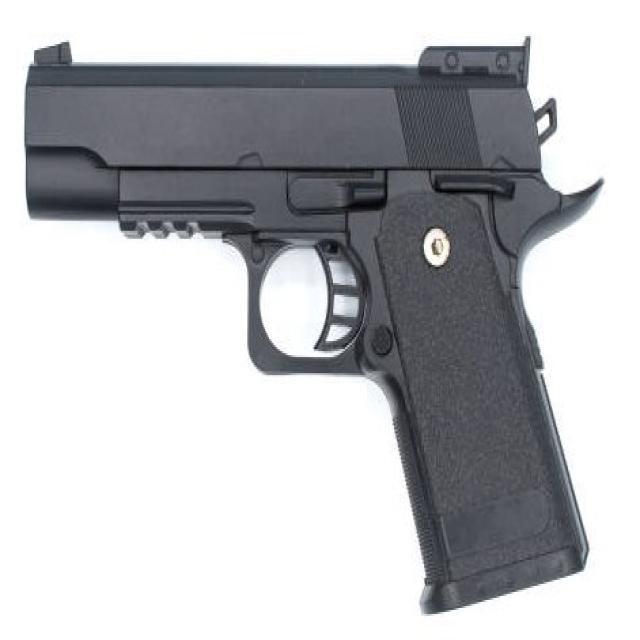pistol: (14, 27, 614, 632)
